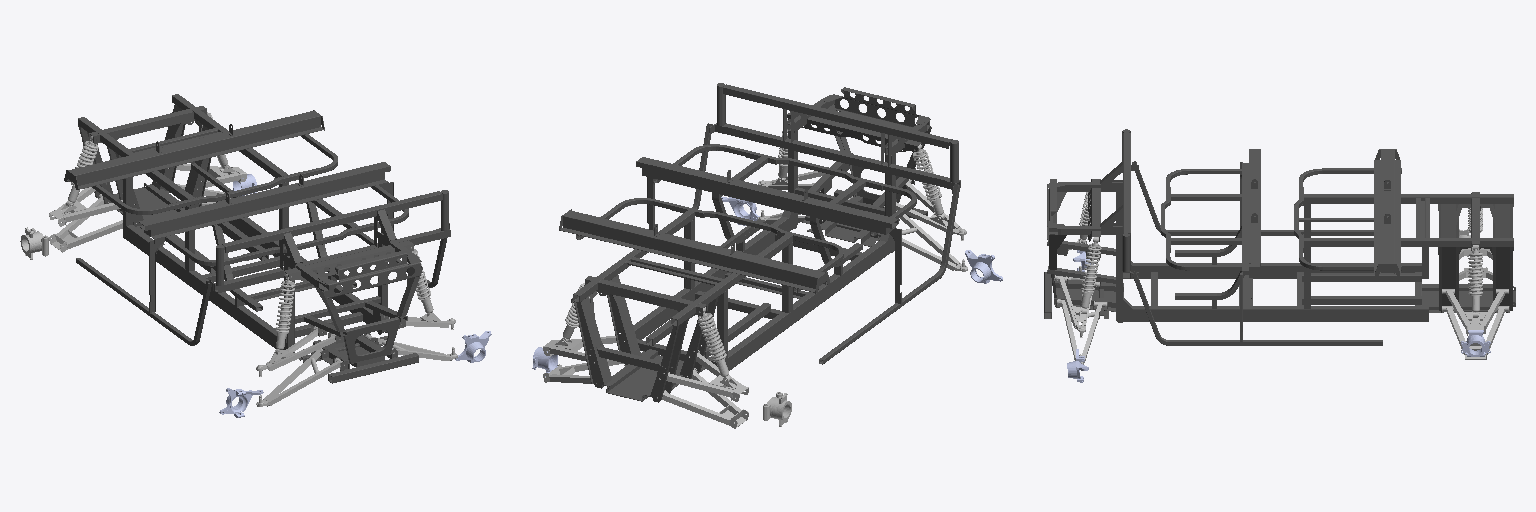
--- Render facts (derived) ---
The picture shows the robot from 3 angles, left to right: view 1: azimuth 30°, elevation 25°; view 2: azimuth 150°, elevation 25°; view 3: azimuth 270°, elevation 25°; orthographic projection.
Robot: panter — 22 links, 21 joints (18 revolute, 3 fixed); root link base_link; default pose: all joints at 0.
Links seen in each view (by area): view 1: CH, SD03_DCH, ST03_DCH, SD02_DCH, ST02_DCH, SD01_DCH, MGD_IZQ, SD03_IZQ, ST02_IZQ, MGT_DCH, MGD_DCH, ST01_DCH; view 2: CH, ST03_DCH, ST02_DCH, SD03_DCH, ST01_DCH, SD02_DCH, ST02_IZQ, ST03_IZQ, SD01_DCH, MGD_DCH, MGT_DCH; view 3: CH, ST02_IZQ, ST01_IZQ, SD01_IZQ, ST03_IZQ, SD03_IZQ, SD02_IZQ.
Link boxes in pixels (x1,y1,x2,y2): CH: (64,94,450,383); SD03_DCH: (256,348,344,406); ST03_DCH: (49,194,136,252); SD02_DCH: (256,326,340,376); ST02_DCH: (49,183,134,226); SD01_DCH: (275,274,295,354); MGD_IZQ: (455,331,491,362); SD03_IZQ: (365,334,457,360); ST02_IZQ: (168,164,246,189); MGT_DCH: (20,227,48,259); MGD_DCH: (219,388,263,417); ST01_DCH: (66,136,98,206); CH: (559,83,960,402); ST03_DCH: (657,368,748,428); ST02_DCH: (659,350,748,401); SD03_DCH: (879,210,967,271); ST01_DCH: (698,307,730,381); SD02_DCH: (884,179,966,240); ST02_IZQ: (543,336,624,363); ST03_IZQ: (543,359,623,383); SD01_DCH: (913,144,944,219); MGD_DCH: (965,250,1002,283); MGT_DCH: (763,392,791,426); CH: (1044,129,1515,345); ST02_IZQ: (1442,289,1508,335); ST01_IZQ: (1468,245,1482,317); SD01_IZQ: (1081,237,1101,313); ST03_IZQ: (1442,306,1508,359); SD03_IZQ: (1057,299,1106,364); SD02_IZQ: (1054,275,1099,337).
Size in the robot's own frame: 1.65 by 2.62 by 0.8875 metres.
Meshes: 21 distinct files referenced, 17 mesh visuals loaded (17 binary STL); not drawn: 4 (reference not matched to a file when rendering).

URDF robot description (panter):
<?xml version="1.0" encoding="utf-8"?>

<robot
  name="panter">

<!-- <robot xmlns:xacro="http://www.ros.org/wiki/xacro" name="panter"> -->

<!-- CHASIS -->

  <link name="base_link"/>

  <link name="CH">
    <inertial>
      <origin
        xyz="-0.00880173011979828 -0.4226795868207859 0.673550824362744"
        rpy="0 0 0" />
      <mass
        value="343" />
      <inertia
        ixx="210.9428"
        ixy="0"
        ixz="0"
        iyy="79.0479"
        iyz="0"
        izz="260.5199" />
    </inertial>
    <visual>
      <origin
        xyz="0 0 0"
        rpy="0 0 0" />
      <geometry>
        <mesh
          filename="package://description_pkg/meshes/CH.STL" />
      </geometry>
      <material
        name="">
        <color
          rgba="0.4 0.4 0.4 1" />
      </material>
    </visual>
    <collision>
      <origin
        xyz="0 -0.44 0.675"
        rpy="0 0 0" />
      <geometry>
        <box size="1.5 2.62 0.718"/>
      </geometry>
    </collision>
  </link>

  <joint name="base_joint" type="fixed">
     <parent
      link="base_link" />
    <child
      link="CH" />
  </joint>

<!--        #### EJE DELANTERO IZQUIERDA ####        -->

<!-- AMORTIGUADOR DELANTERO IZQUIERDO -->


  <link name="SD01_IZQ">
    <inertial>
      <origin
        xyz="0.023095387698848 0.0466016681758654 -0.187519014527033"
        rpy="-1.3265 -0.1571 0" />
      <mass
        value="3.75" />
      <inertia
        ixx="0.0513"
        ixy="0"
        ixz="0"
        iyy="0.0016"
        iyz="0"
        izz="0.0513" />
    </inertial>
    <visual>
      <origin
        xyz="0 0 0"
        rpy="0 0 0" />
      <geometry>
        <mesh
          filename="package://description_pkg/meshes/SD01_IZQ.STL" />
      </geometry>
      <material
        name="">
        <color
          rgba="0.752941176470588 0.752941176470588 0.752941176470588 1" />
      </material>
    </visual>
    <collision>
      <origin
        xyz="0 0 0"
        rpy="0 0 0" />
      <geometry>
        <mesh
          filename="package://description_pkg/meshes/SD01_IZQ.STL" />
      </geometry>
    </collision>
  </link>

  <joint name="SD01_IZQ_CH_joint" type="revolute">
    <origin
      xyz="0.364 -1.4598 0.85354"
      rpy="0 0 -1.5708" />
    <parent
      link="CH" />
    <child
      link="SD01_IZQ" />
    <axis
      xyz="1 0 0" />
    <limit effort="1.0" velocity="5.0" lower="-0" upper="0"/>
  </joint>

<!-- BRAZO SUPERIOR DELANTERO IZQUIERDO xyz="-0.109382785122553 0.00538487649739164 -0.016693818528262"-->

  <link name="SD02_IZQ">
    <inertial>
      <origin
        xyz="-0.109382785122553 0.20538487649739164 -0.080693818528262"
        rpy="0 0.3142 1.6930" />
      <mass
        value="2.75" />
      <inertia
        ixx="0.0045"
        ixy="0"
        ixz="0"
        iyy="0.0591"
        iyz="0"
        izz="0.0625" />
    </inertial>
    <visual>
      <origin
        xyz="0 0 0"
        rpy="0 0 0" />
      <geometry>
        <mesh
          filename="package://description_pkg/meshes/SD02_IZQ.STL" />
      </geometry>
      <material
        name="">
        <color
          rgba="0.752941176470588 0.752941176470588 0.752941176470588 1" />
      </material>
    </visual>
    <collision>
      <origin
        xyz="0 0 0"
        rpy="0 0 0" />
      <geometry>
        <mesh
          filename="package://description_pkg/meshes/SD02_IZQ.STL" />
      </geometry>
    </collision>
  </link>

  <joint name="SD02_IZQ_CH_joint" type="revolute">
    <origin
      xyz="0.1865 -1.6482 0.53091"
      rpy="0 0 -1.5708" />

    <parent
      link="CH" />
    <child
      link="SD02_IZQ" />
    <axis xyz="1 0 0"/>
    <limit effort="1.0" velocity="5.0" lower="-0.02" upper="0.02"/>
  </joint>

<!-- BRAZO INFERIOR DELANTERO IZQUIERDO -->

  <link name="SD03_IZQ">
    <inertial>
      <origin
        xyz="-0.097367551528877 0.158067753702783 -0.0696606835357823"
        rpy="0 0.4363 1.6930" />
      <mass
        value="2.55" />
      <inertia
        ixx="0.0064"
        ixy="0"
        ixz="0"
        iyy="0.0574"
        iyz="0"
        izz="0.0630" />
    </inertial>
    <visual>
      <origin
        xyz="0 0 0"
        rpy="0 0 0" />
      <geometry>
        <mesh
          filename="package://description_pkg/meshes/SD03_IZQ.STL" />
      </geometry>
      <material
        name="">
        <color
          rgba="0.752941176470588 0.752941176470588 0.752941176470588 1" />
      </material>
    </visual>
    <collision>
      <origin
        xyz="0 0 0"
        rpy="0 0 0" />
      <geometry>
        <mesh
          filename="package://description_pkg/meshes/SD03_IZQ.STL" />
      </geometry>
    </collision>
  </link>

  <joint name="SD03_IZQ_CH_joint" type="revolute">
    <parent link="CH"/>
    <child link="SD03_IZQ"/>
    <!-- <axis xyz="1 0 0" /> -->
    <axis xyz="1 0 0.07"/>
    <!-- hay que ajustar el eje sobre el que gira, no esta alineado con x, pero con solid lo podemos obtener  .069756 -->
    <!-- <limit effort="1.0" velocity="5.0" lower="-0.3" upper="0.3"/> -->
    <limit effort="1.0" velocity="5.0" lower="-0" upper="0"/>
    <origin
        xyz="0.151 -1.6306 0.37054"
        rpy="0 0 -1.5708" />
  </joint>

<!-- MANGUETA DELANTERA IZQUIERDA -->

  <link name="MGD_IZQ">
    <inertial>
      <origin
        xyz="-0.00497345711760122 -0.210444823308728 0.028708631857455"
        rpy="0 0 0" />
      <mass
        value="2.95" />
      <inertia
        ixx="0.000818666431242726"
        ixy="6.87964117180795E-06"
        ixz="0.000112075156886058"
        iyy="0.00160628936815674"
        iyz="-2.77497675092315E-05"
        izz="0.00115594236415572" />
    </inertial>
    <visual>
      <origin
        xyz="0 0 0"
        rpy="0 0 0" />
      <geometry>
        <mesh
          filename="package://description_pkg/meshes/MGD_IZQ.STL" />
      </geometry>
      <material
        name="">
        <color
          rgba="0.792156862745098 0.819607843137255 0.933333333333333 1" />
      </material>
    </visual>
    <collision>
      <origin
        xyz="0 0 0"
        rpy="0 0 0" />
      <geometry>
        <mesh
          filename="package://description_pkg/meshes/MGD_IZQ.STL" />
      </geometry>
    </collision>
  </link>

  <joint name="MGD_IZQ_joint" type="revolute">
    <origin
      xyz="-0.11217 0.52087 -0.23886"
      rpy="0 0 0" />
    <parent
      link="SD02_IZQ" />
    <child
      link="MGD_IZQ" />
    <axis
      xyz="0 0 1" />
      <limit effort="50.0" velocity="1.0" lower="-0.52" upper="0.52"/>
  </joint>

<!-- RUEDA DELANTERA IZQUIERDA -->

  <link name="ED_IZQ">
    <inertial>
      <origin
        xyz="9.83891827921468E-06 -0.0201678086647318 0.00124512879040783"
        rpy="0 0 0" />
      <mass
        value="20.75" />
      <inertia
        ixx="0.7018"
        ixy="0"
        ixz="0"
        iyy="1.2206"
        iyz="0"
        izz="0.7018" />
    </inertial>
    <visual>
      <origin
        xyz="0 0 0"
        rpy="1.5707 0 0" />
      <geometry>
        <mesh
          filename="package://description_pkg/meshes/ED_IZQ.STL" />
      </geometry>
      <material
        name="">
        <color
          rgba="0.1 0.1 0.1 1" />
      </material>
    </visual>
    <collision>
      <origin
        xyz="0 0.0075 0"
        rpy="0 1.5707 1.5707" />
      <geometry>
        <cylinder radius="0.343" length="0.23"/>
      </geometry>
      <surface>
        <friction>
          <ode>
            <mu>1.0</mu>
            <mu2>1.0</mu2>
          </ode>
        </friction>
      </surface>
    </collision>
  </link>

  <joint name="ED_IZQ_joint" type="revolute">
    <origin
      xyz="0 0 0"
      rpy="0 0 0" />
    <parent
      link="MGD_IZQ" />
    <child
      link="ED_IZQ" />
    <axis
      xyz="0 1 0" />
      <!-- <dynamics damping="0.2" friction="0.6" /> -->
      <limit effort="1.0" velocity="50.0" lower="-10000000000000000" upper="10000000000000000"/>

  </joint>
  
<!--        #### EJE DELANTERO DERECHA ####        -->

<!-- AMORTIGUADOR DELANTERO DERECHO -->

  <link name="SD01_DCH">
    <inertial>
      <origin
        xyz="0.0147151277156394 -0.0466016638374874 -0.188936395717115"
        rpy="1.3265 -0.1571 0" />
      <mass
        value="3.75" />
      <inertia
        ixx="0.0513"
        ixy="0"
        ixz="0"
        iyy="0.0016"
        iyz="0"
        izz="0.0513" />
    </inertial>
    <visual>
      <origin
        xyz="0 0 0"
        rpy="0 0 0" />
      <geometry>
        <mesh
          filename="package://description_pkg/meshes/SD01_DCH.STL" />
      </geometry>
      <material
        name="">
        <color
          rgba="0.752941176470588 0.752941176470588 0.752941176470588 1" />
      </material>
    </visual>
    <collision>
      <origin
        xyz="0 0 0"
        rpy="0 0 0" />
      <geometry>
        <mesh
          filename="package://description_pkg/meshes/SD01_DCH.STL" />
      </geometry>
    </collision>
  </link>

  <joint name="SD01_DCH_CH_joint" type="revolute">
    <origin
      xyz="-0.364 -1.4682 0.85496"
      rpy="0 0 -1.5708" />
    <parent
      link="CH" />
    <child
      link="SD01_DCH" />
    <axis
      xyz="1 0 0" />
    <limit effort="1.0" velocity="5.0" lower="-0" upper="0"/>
  </joint>

<!-- BRAZO SUPERIOR DELANTERO DERECHO         -->

  <link name="SD02_DCH">
    <inertial>
      <origin
        xyz="-0.100708620793033 -0.178807887505557 -0.0713964836359323"
        rpy="0 -0.3142 1.6930" />
      <mass
        value="2.75" />
      <inertia
        ixx="0.0045"
        ixy="0"
        ixz="0"
        iyy="0.0591"
        iyz="0"
        izz="0.0625" />
    </inertial>
    <visual>
      <origin
        xyz="0 0 0"
        rpy="0 0 0" />
      <geometry>
        <mesh
          filename="package://description_pkg/meshes/SD02_DCH.STL" />
      </geometry>
      <material
        name="">
        <color
          rgba="0.752941176470588 0.752941176470588 0.752941176470588 1" />
      </material>
    </visual>
    <collision>
      <origin
        xyz="0 0 0"
        rpy="0 0 0" />
      <geometry>
        <mesh
          filename="package://description_pkg/meshes/SD02_DCH.STL" />
      </geometry>
    </collision>
  </link>

  <joint name="SD02_DCH_CH_joint" type="revolute">
    <origin
      xyz="-0.1865 -1.6482 0.53091"
      rpy="0 0 -1.5708" />
    <parent
      link="CH" />
    <child
      link="SD02_DCH" />
    <axis
      xyz="1 0 0" />
    <limit effort="1.0" velocity="5.0" lower="-0.02" upper="0.02"/>
  </joint>

<!-- BRAZO INFERIOR DELANTERO DERECHO -->

  <link name="SD03_DCH">
    <inertial>
      <origin
        xyz="-0.0979518472036578 -0.169078002158508 -0.0764949344668193"
        rpy="0 -0.4363 1.6930" />
      <mass
        value="2.55" />
      <inertia
        ixx="0.0064"
        ixy="-0"
        ixz="0"
        iyy="0.0574"
        iyz="0.0"
        izz="0.0630" />
    </inertial>
    <visual>
      <origin
        xyz="0 0 0"
        rpy="0 0 0" />
      <geometry>
        <mesh
          filename="package://description_pkg/meshes/SD03_DCH.STL" />
      </geometry>
      <material
        name="">
        <color
          rgba="0.752941176470588 0.752941176470588 0.752941176470588 1" />
      </material>
    </visual>
    <collision>
      <origin
        xyz="0 0 0"
        rpy="0 0 0" />
      <geometry>
        <mesh
          filename="package://description_pkg/meshes/SD03_DCH.STL" />
      </geometry>
    </collision>
  </link>

  <joint name="SD03_DCH_CH_joint" type="revolute">
    <origin
      xyz="-0.151 -1.6306 0.37054"
      rpy="0 0 -1.5708" />
    <parent
      link="CH" />
    <child
      link="SD03_DCH" />
    <axis
      xyz="1 0 0" />
    <limit effort="1.0" velocity="5.0" lower="-0" upper="0"/>
  </joint>

<!-- MANGUETA DELANTERA DERECHA -->

  <link name="MGD_DCH">
    <inertial>
      <origin
        xyz="-0.00499672613858615 0.101475946327662 0.0231953048014176"
        rpy="0 0 0" />
      <mass
        value="2.95" />
      <inertia
        ixx="0.000408973712801148"
        ixy="-1.51590957094099E-05"
        ixz="5.49889371726592E-05"
        iyy="0.000807927110139834"
        iyz="-2.30270273360574E-05"
        izz="0.000572215537021713" />
    </inertial>
    <visual>
      <origin
        xyz="0 0 0"
        rpy="0 0 0" />
      <geometry>
        <mesh
          filename="package://description_pkg/meshes/MGD_DCH.STL" />
      </geometry>
      <material
        name="">
        <color
          rgba="0.792156862745098 0.819607843137255 0.933333333333333 1" />
      </material>
    </visual>
    <collision>
      <origin
        xyz="0 0 0"
        rpy="0 0 0" />
      <geometry>
        <mesh
          filename="package://description_pkg/meshes/MGD_DCH.STL" />
      </geometry>
    </collision>
  </link>

  <joint name="MGD_DCH_joint" type="revolute">
    <origin
      xyz="-0.11198 -0.51968 -0.24274"
      rpy="0 0 0" />
    <parent
      link="SD02_DCH" />
    <child
      link="MGD_DCH" />
    <axis
      xyz="0 0 1" />
      <limit effort="50" velocity="1.0" lower="-0.52" upper="0.52"/>
  </joint>

<!-- RUEDA DELANTERA DERECHA -->

  <link name="ED_DCH">
    <inertial>
      <origin
        xyz="2.29121924788522E-06 0.0201749464629289 0.00146310372559588"
        rpy="0 0 0" />
      <mass
        value="20.75" />
      <inertia
        ixx="0.7018"
        ixy="0"
        ixz="0"
        iyy="1.2206"
        iyz="0"
        izz="0.7018" />
    </inertial>
    <visual>
      <origin
        xyz="0 0 0"
        rpy="-1.5707 0 0" />
      <geometry>
        <mesh
          filename="package://description_pkg/meshes/ED_DCH.STL" />
      </geometry>
      <material
        name="">
        <color
          rgba="0.1 0.1 0.1 1" />
      </material>
    </visual>
    <collision>
      <origin
        xyz="0 -0.0065 0"
        rpy="0 1.5707 1.5707" />
      <geometry>
        <cylinder radius="0.343" length="0.23"/>
      </geometry>
        <surface>
        <friction>
          <ode>
            <mu>1.0</mu>
            <mu2>1.0</mu2>
          </ode>
        </friction>
      </surface>
    </collision>
  </link>

  <joint name="ED_DCH_joint" type="revolute">
    <origin
      xyz="0 0 0"
      rpy="0 0 0" />
    <parent
      link="MGD_DCH" />
    <child
      link="ED_DCH" />
    <axis
      xyz="0 1 0" />
      <!-- <dynamics damping="0.2" friction="0.6" /> -->
    <limit effort="1.0" velocity="50.0" lower="-10000000000000000" upper="10000000000000000"/>
  </joint>

<!--        #### EJE TRASERO IZQUIERDA ####        -->

<!-- AMORTIGUADOR TRASERO IZQUIERDO -->

  <link name="ST01_IZQ">
    <inertial>
      <origin
        xyz="0.00849916904573988 0.0657819927228204 -0.159438279696458"
        rpy="-1.1868 0 0" />
      <mass
        value="5.35" />
      <inertia
        ixx="0.0844"
        ixy="0"
        ixz="0"
        iyy="0.0038"
        iyz="0"
        izz="0.0844" />
    </inertial>
    <visual>
      <origin
        xyz="0 0 0"
        rpy="0 0 0" />
      <geometry>
        <mesh
          filename="package://description_pkg/meshes/ST01_IZQ.STL" />
      </geometry>
      <material
        name="">
        <color
          rgba="0.752941176470588 0.752941176470588 0.752941176470588 1" />
      </material>
    </visual>
    <collision>
      <origin
        xyz="0 0 0"
        rpy="0 0 0" />
      <geometry>
        <mesh
          filename="package://description_pkg/meshes/ST01_IZQ.STL" />
      </geometry>
    </collision>
  </link>

  <joint name="ST01_IZQ_CH_joint" type="revolute">
    <origin
      xyz="0.3275 0.66468 0.79122"
      rpy="0 0 -1.5708" />
    <parent
      link="CH" />
    <child
      link="ST01_IZQ" />
    <axis
      xyz="1 0 0" />
    <limit effort="1.0" velocity="5.0" lower="-0" upper="0"/>
  </joint>

<!-- BRAZO SUPERIOR TRASERO IZQUIERDO -->

  <link name="ST02_IZQ">
    <inertial>
      <origin
        xyz="0.150000005167412 0.17487915113979 -0.0332493411124752"
        rpy="0 0 0" />
      <mass
        value="2.65" />
      <inertia
        ixx="0.00805847541687784"
        ixy="9.94042597564868E-10"
        ixz="4.393272678471E-09"
        iyy="0.00136969060130727"
        iyz="0.00150446688084042"
        izz="0.00869514722257052" />
    </inertial>
    <visual>
      <origin
        xyz="0 0 0"
        rpy="0 0 0" />
      <geometry>
        <mesh
          filename="package://description_pkg/meshes/ST02_IZQ.STL" />
      </geometry>
      <material
        name="">
        <color
          rgba="0.752941176470588 0.752941176470588 0.752941176470588 1" />
      </material>
    </visual>
    <collision>
      <origin
        xyz="0 0 0"
        rpy="0 0 0" />
      <geometry>
        <mesh
          filename="package://description_pkg/meshes/ST02_IZQ.STL" />
      </geometry>
    </collision>
  </link>

  <joint name="ST02_IZQ_CH_joint" type="revolute">
    <origin
      xyz="0.19 0.80618 0.45222"
      rpy="0 0 -1.5708" />
    <parent
      link="CH" />
    <child
      link="ST02_IZQ" />
    <axis
      xyz="1 0 0" />
    <limit effort="1.0" velocity="5.0" lower="-0.02" upper="0.02"/>
  </joint>

<!-- BRAZO INFERIOR TRASERO IZQUIERDO -->

  <link name="ST03_IZQ">
    <inertial>
      <origin
        xyz="0.149999999999999 0.164533605888154 -0.0525148439282281"
        rpy="0 0 0" />
      <mass
        value="2.70" />
      <inertia
        ixx="0.00227935928137915"
        ixy="9.86423410377996E-18"
        ixz="-2.42692932918681E-18"
        iyy="0.000532010440822694"
        iyz="0.000627611706470002"
        izz="0.00233995796668448" />
    </inertial>
    <visual>
      <origin
        xyz="0 0 0"
        rpy="0 0 0" />
      <geometry>
        <mesh
          filename="package://description_pkg/meshes/ST03_IZQ.STL" />
      </geometry>
      <material
        name="">
        <color
          rgba="0.752941176470588 0.752941176470588 0.752941176470588 1" />
      </material>
    </visual>
    <collision>
      <origin
        xyz="0 0 0"
        rpy="0 0 0" />
      <geometry>
        <mesh
          filename="package://description_pkg/meshes/ST03_IZQ.STL" />
      </geometry>
    </collision>
  </link>

  <joint name="ST03_IZQ_CH_joint" type="revolute">
    <origin
      xyz="0.178 0.80618 0.34222"
      rpy="0 0 -1.5708" />
    <parent
      link="CH" />
    <child
      link="ST03_IZQ" />
    <axis
      xyz="1 0 0" />
    <limit effort="1.0" velocity="5.0" lower="-0" upper="0"/>
  </joint>

<!-- MANGUETA TRASERA IZQUIERDA -->

  <link name="MGT_IZQ">
    <inertial>
      <origin
        xyz="0.069988106311084 -0.0306022880154865 5.74031686517706E-07"
        rpy="0 0 0" />
      <mass
        value="2.20" />
      <inertia
        ixx="0.000884120311608432"
        ixy="0"
        ixz="0"
        iyy="0.00152701411958271"
        iyz="0"
        izz="0.00126994685390396" />
    </inertial>
    <visual>
      <origin
        xyz="0 0 0"
        rpy="0 0 0" />
      <geometry>
        <mesh
          filename="package://description_pkg/meshes/MGT_IZQ.STL" />
      </geometry>
      <material
        name="">
        <color
          rgba="0.792156862745098 0.819607843137255 0.933333333333333 1" />
      </material>
    </visual>
    <collision>
      <origin
        xyz="0 0 0"
        rpy="0 0 0" />
      <geometry>
        <mesh
          filename="package://description_pkg/meshes/MGT_IZQ.STL" />
      </geometry>
    </collision>
  </link>

  <joint name="MGT_IZQ_joint" type="fixed">
    <origin
      xyz="0.15 0.35805 -0.078868"
      rpy="-1.5708 1.5606 1.5708" />
    <parent
      link="ST02_IZQ" />
    <child
      link="MGT_IZQ" />
  </joint>

<!-- RUEDA TRASERA IZQUIERDA -->

  <link name="ET_IZQ">
    <inertial>
      <origin
        xyz="-0.000700729202568251 -0.0241520014976043 -0.000245429077767367"
        rpy="0 0 0" />
      <mass
        value="25.2" />
      <inertia
        ixx="0.9047"
        ixy="0"
        ixz="0"
        iyy="1.4824"
        iyz="0"
        izz="0.9047" />
    </inertial>
    <visual>
      <origin
        xyz="0 0 0"
        rpy="0 0 0" />
      <geometry>
          <mesh
            filename="package://description_pkg/meshes/ET_IZQ.STL" />
        
      </geometry>
      <material
        name="">
        <color
          rgba="0.1 0.1 0.1 1" />
      </material>
    </visual>
    <collision>
      <origin
        xyz="0 -0.038 0"
        rpy="0 1.5707 1.5707" />
      <geometry>
        <cylinder radius="0.343" length="0.285"/>
      </geometry>
      <surface>
        <friction>
          <ode>
            <mu>1.0</mu>
            <mu2>1.0</mu2>
          </ode>
        </friction>
      </surface>
    </collision>
  </link>

  <joint name="ET_IZQ_joint" type="revolute">
    <origin
      xyz="0.067 -0.144 0"
      rpy="3.1314 1.5708 0" />
    <parent
      link="MGT_IZQ" />
    <child
      link="ET_IZQ" />
    <axis
      xyz="0 1 0" />
      <!-- <dynamics damping="0.2" friction="0.6" /> -->
      <limit effort="1.0" velocity="50.0" lower="-10000000000000000" upper="10000000000000000"/>
  </joint>

<!--        #### EJE TRASERO DERECHA ####        -->

<!-- AMORTIGUADOR TRASERO DERECHO -->

  <link name="ST01_DCH">
    <inertial>
      <origin
        xyz="0.00850083095421039 -0.0657819927229779 -0.159438279696522"
        rpy="1.1868 0 0" />
      <mass
        value="5.35" />
      <inertia
        ixx="0.0844"
        ixy="0"
        ixz="0"
        iyy="0.0038"
        iyz="0"
        izz="0.0844" />
    </inertial>
    <visual>
      <origin
        xyz="0 0 0"
        rpy="0 0 0" />
      <geometry>
        <mesh
          filename="package://description_pkg/meshes/ST01_DCH.STL" />
      </geometry>
      <material
        name="">
        <color
          rgba="0.752941176470588 0.752941176470588 0.752941176470588 1" />
      </material>
    </visual>
    <collision>
      <origin
        xyz="0 0 0"
        rpy="0 0 0" />
      <geometry>
        <mesh
          filename="package://description_pkg/meshes/ST01_DCH.STL" />
      </geometry>
    </collision>
  </link>

  <joint name="ST01_DCH_CH_joint" type="revolute">
    <origin
      xyz="-0.3275 0.66468 0.79122"
      rpy="0 0 -1.5708" />
    <parent
      link="CH" />
    <child
      link="ST01_DCH" />
    <axis
      xyz="1 0 0" />
    <limit effort="1.0" velocity="5.0" lower="-0" upper="0"/>
  </joint>

<!-- BRAZO SUPERIOR TRASERO DERECHO -->

  <link name="ST02_DCH">
    <inertial>
      <origin
        xyz="0.149999994832603 -0.174879151139789 -0.0332493411124751"
        rpy="0 0 0" />
      <mass
        value="2.65" />
      <inertia
        ixx="0.00805847541687784"
        ixy="9.94042593343271E-10"
        ixz="-4.39327267255029E-09"
        iyy="0.00136969060130727"
        iyz="-0.00150446688084042"
        izz="0.00869514722257053" />
    </inertial>
    <visual>
      <origin
        xyz="0 0 0"
        rpy="0 0 0" />
      <geometry>
        <mesh
          filename="package://description_pkg/meshes/ST02_DCH.STL" />
      </geometry>
      <material
        name="">
        <color
          rgba="0.752941176470588 0.752941176470588 0.752941176470588 1" />
      </material>
    </visual>
    <collision>
      <origin
        xyz="0 0 0"
        rpy="0 0 0" />
      <geometry>
        <mesh
          filename="package://description_pkg/meshes/ST02_DCH.STL" />
      </geometry>
    </collision>
  </link>

  <joint name="ST02_DCH_CH_joint" type="revolute">
    <origin
      xyz="-0.19 0.80618 0.45222"
      rpy="0 0 -1.5708" />
    <parent
      link="CH" />
    <child
      link="ST02_DCH" />
    <axis
      xyz="1 0 0" />
    <limit effort="1.0" velocity="5.0" lower="-0.02" upper="0.02"/>
  </joint>

<!-- BRAZO INFERIOR TRASERO DERECHO -->

  <link name="ST03_DCH">
    <inertial>
      <origin
        xyz="0.150000000000001 -0.164533605888152 -0.0525148439282279"
        rpy="0 0 0" />
      <mass
        value="2.7" />
      <inertia
        ixx="0.00227935928137914"
        ixy="3.80110151684503E-18"
        ixz="2.25386593134114E-18"
        iyy="0.000532010440822693"
        iyz="-0.000627611706469999"
        izz="0.00233995796668447" />
    </inertial>
    <visual>
      <origin
        xyz="0 0 0"
        rpy="0 0 0" />
      <geometry>
        <mesh
          filename="package://description_pkg/meshes/ST03_DCH.STL" />
      </geometry>
      <material
        name="">
        <color
          rgba="0.752941176470588 0.752941176470588 0.752941176470588 1" />
      </material>
    </visual>
    <collision>
      <origin
        xyz="0 0 0"
        rpy="0 0 0" />
      <geometry>
        <mesh
          filename="package://description_pkg/meshes/ST03_DCH.STL" />
      </geometry>
    </collision>
  </link>

  <joint name="ST03_DCH_CH_joint" type="revolute">
    <origin
      xyz="-0.178 0.80618 0.34222"
      rpy="0 0 -1.5708" />
    <parent
      link="CH" />
    <child
      link="ST03_DCH" />
    <axis
      xyz="1 0 0" />
    <limit effort="1.0" velocity="5.0" lower="-0" upper="0"/>
  </joint>

<!-- MANGUETA TRASERA DERECHA -->

  <link name="MGT_DCH">
    <inertial>
      <origin
        xyz="4.52389224525618E-07 0.113286548456591 -0.00345190812278645"
        rpy="0 0 0" />
      <mass
        value="2.20" />
      <inertia
        ixx="0.00134163383667941"
        ixy="4.27082614246778E-08"
        ixz="4.18056539755781E-06"
        iyy="0.00163581388758224"
        iyz="2.580804437242E-05"
        izz="0.000954188830725327" />
    </inertial>
    <visual>
      <origin
        xyz="0 0 0"
        rpy="0 0 0" />
      <geometry>
        <mesh
          filename="package://description_pkg/meshes/MGT_DCH.STL" />
      </geometry>
      <material
        name="">
        <color
          rgba="0.752941176470588 0.752941176470588 0.752941176470588 1" />
      </material>
    </visual>
    <collision>
      <origin
        xyz="0 0 0"
        rpy="0 0 0" />
      <geometry>
        <mesh
          filename="package://description_pkg/meshes/MGT_DCH.STL" />
      </geometry>
    </collision>
  </link>

  <joint name="MGT_DCH_joint" type="fixed">
    <origin
      xyz="0.15 -0.51022 -0.14431"
      rpy="0 0 0" />
    <parent
      link="ST02_DCH" />
    <child
      link="MGT_DCH" />
    <axis
      xyz="0 0 0" />
  </joint>

<!-- RUEDA TRASERA DERECHA -->

  <link name="ET_DCH">
    <inertial>
      <origin
        xyz="-0.000703773718821132 0.0238865488241629 -0.000242700430142184"
        rpy="0 0 0" />
      <mass
        value="25.2" />
      <inertia
        ixx="0.9047"
        ixy="0"
        ixz="0"
        iyy="1.4824"
        iyz="0"
        izz="0.9047" />
    </inertial>
    <visual>
      <origin
        xyz="0 0 0"
        rpy="1.5707 0 0" />
      <geometry>
        <mesh
          filename="package://description_pkg/meshes/ET_DCH.STL" />
      </geometry>
      <material
        name="">
        <color
          rgba="0.1 0.1 0.1 1" />
      </material>
    </visual>
    <collision>
      <origin
        xyz="0 0.025 0"
        rpy="0 1.5707 1.5707" />
      <geometry>
        <cylinder radius="0.343" length="0.285"/>
      </geometry>
      <surface>
        <friction>
          <ode>
            <mu>1.0</mu>
            <mu2>1.0</mu2>
          </ode>
        </friction>
      </surface>
    </collision>
  </link>

  <joint name="ET_DCH_joint" type="revolute">
    <origin
      xyz="0 0 0"
      rpy="0 0 0" />
    <parent
      link="MGT_DCH" />
    <child
      link="ET_DCH" />
    <axis
      xyz="0 1 0" />
      <!-- <dynamics damping="0.2" friction="0.6" /> -->
    <limit effort="1.0" velocity="50.0" lower="-10000000000000000" upper="10000000000000000"/>
  </joint>

  <gazebo>
    <plugin filename="libignition-gazebo-ackermann-steering-system.so" name="ignition::gazebo::systems::AckermannSteering">

      <left_steering_joint>MGD_IZQ_joint</left_steering_joint>
      <left_joint>ED_IZQ_joint</left_joint>
      <right_steering_joint>MGD_DCH_joint</right_steering_joint>
      <right_joint>ED_DCH_joint</right_joint>

      <left_joint>ET_IZQ_joint</left_joint>
      <right_joint>ET_DCH_joint</right_joint>  

      <wheel_separation>1.41</wheel_separation> 
      <wheel_radius>0.343</wheel_radius>
      <min_velocity>-15.0</min_velocity> 
      <max_velocity>15.0</max_velocity>
      <min_acceleration>-0.5</min_acceleration>
      <max_acceleration>0.5</max_acceleration> 

      <topic>cmd_vel</topic> 

    </plugin>
  </gazebo>   

</robot>
